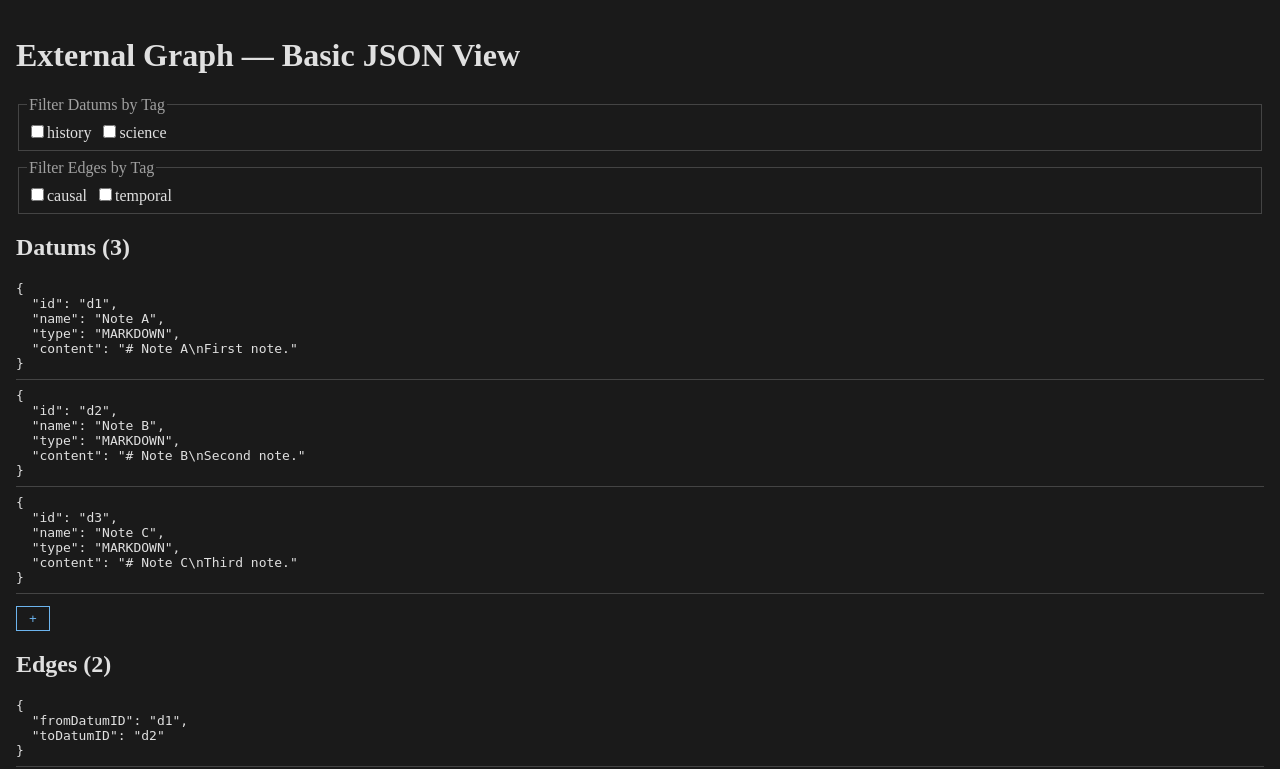
Test: BasicJsonView › enables save when datum id is unique
Click the button with test id "add-datums-button". click: click(33, 618)
box: [16,606,50,631]
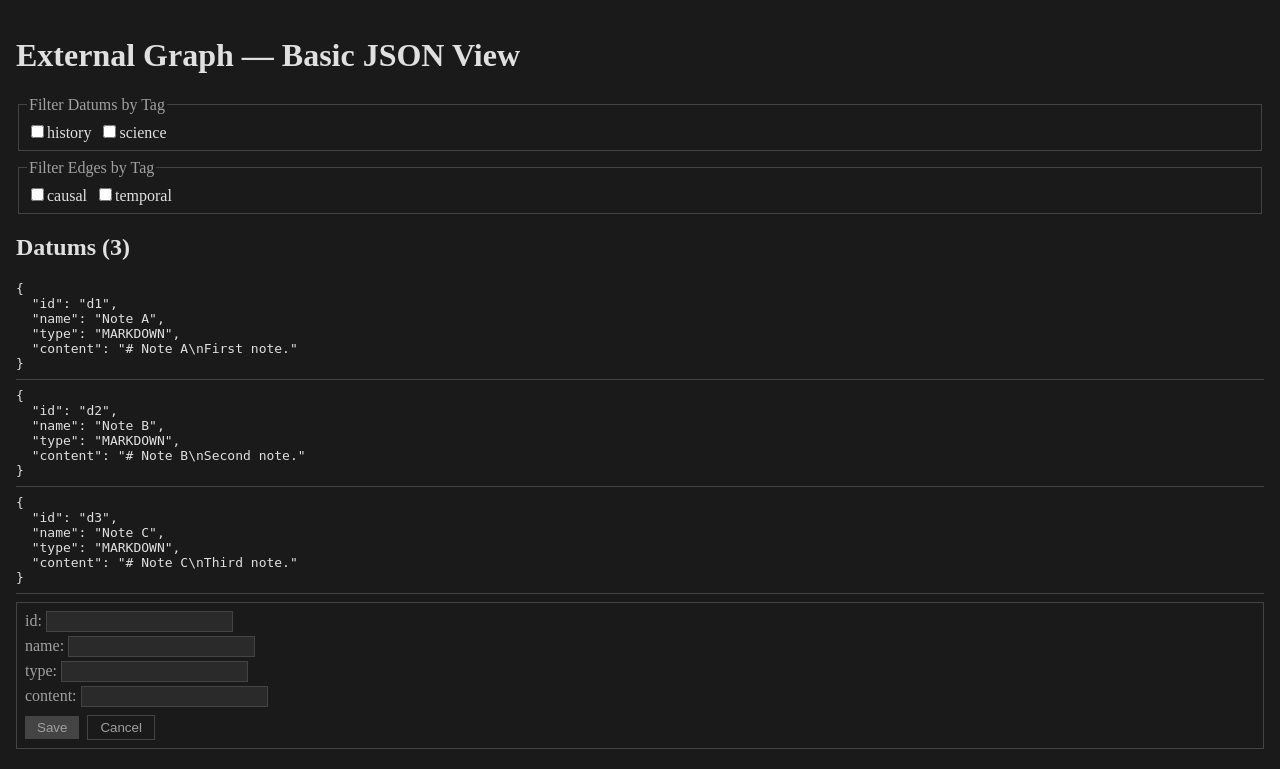
Type "d999" into the field with test id "input-id". click: (139, 621)
box: [46,611,233,632]
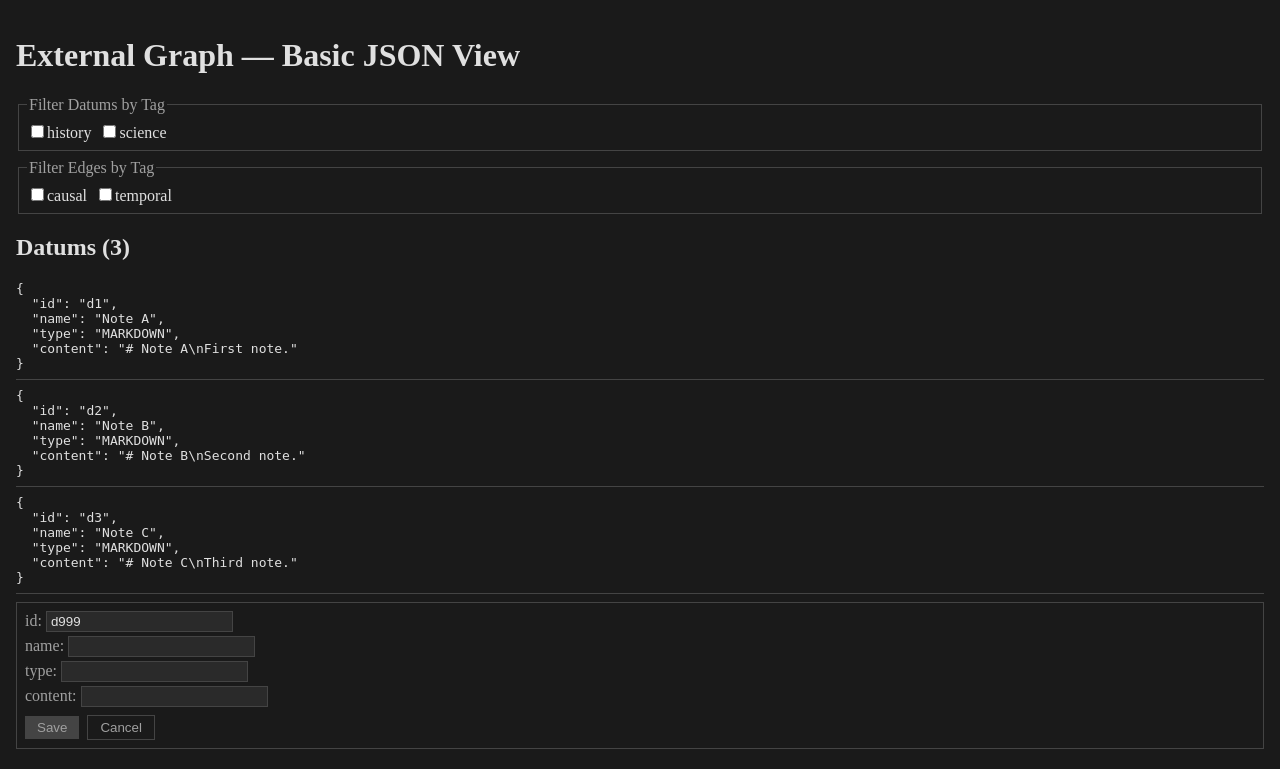
Type "New" into the field with test id "input-name". click: (162, 646)
box: [68,636,255,657]
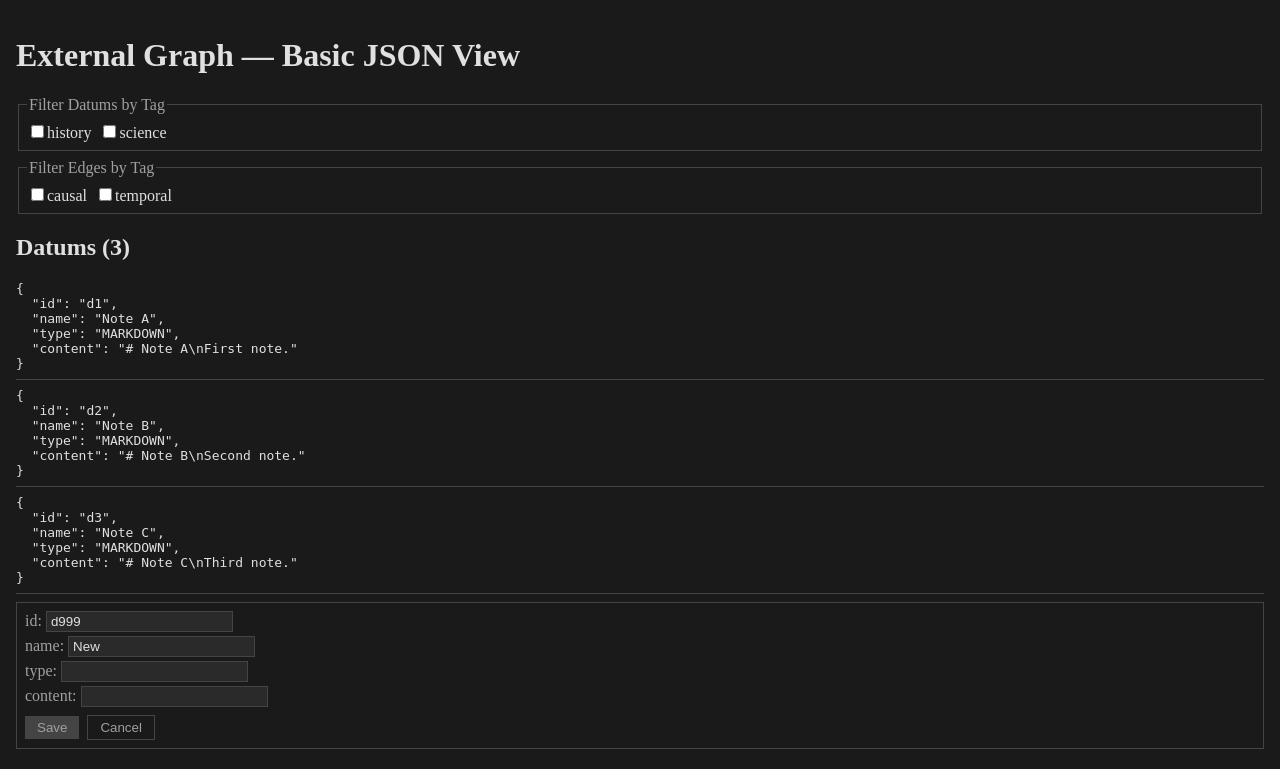
Type "MARKDOWN" into the field with test id "input-type". click: (154, 671)
box: [61,661,248,682]
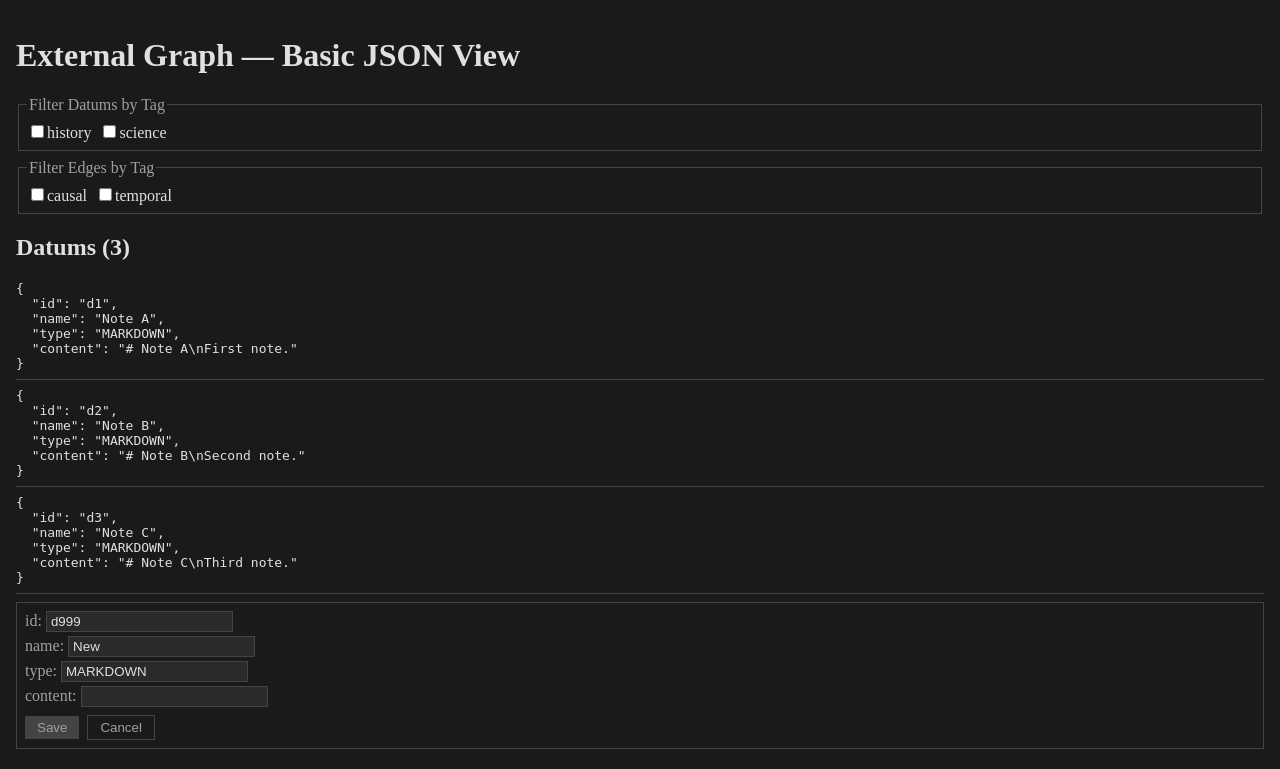
Type "content" into the field with test id "input-content". click: (174, 696)
box: [80,686,268,707]
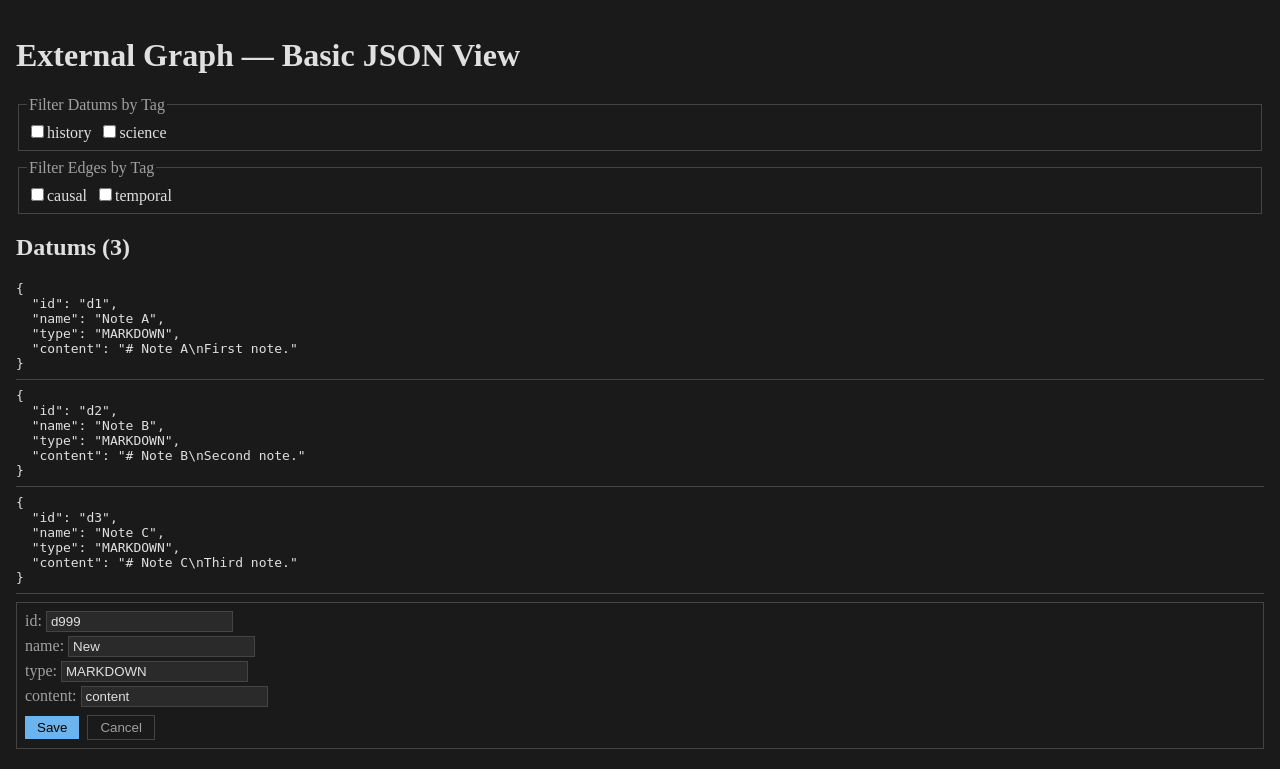
Now the button with test id "save-button" is enabled, box [25,716,79,739]
